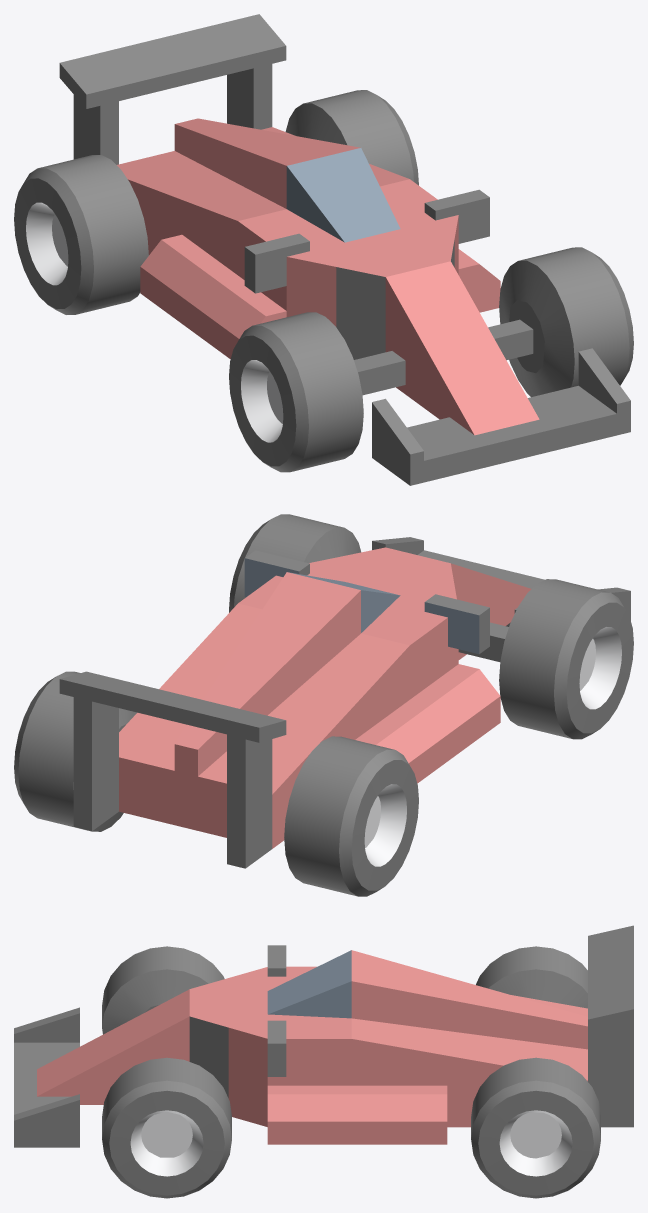
The picture shows the model from 3 angles, top to bottom: view 1: azimuth 30°, elevation 25°; view 2: azimuth 150°, elevation 25°; view 3: azimuth 270°, elevation 25°; orthographic projection. The views are drawn at different scales.
Visible parts, largest first — view 1: GL_Car_Body, GL_Car_Wheel_FR, GL_Car_Wheel_RR, GL_Car_Wheel_FL, GL_Car_Wheel_RL; view 2: GL_Car_Body, GL_Car_Wheel_RR, GL_Car_Wheel_FR, GL_Car_Wheel_RL, GL_Car_Wheel_FL; view 3: GL_Car_Body, GL_Car_Wheel_RL, GL_Car_Wheel_FL, GL_Car_Wheel_FR, GL_Car_Wheel_RR.
Boxes of the visible parts, left/top/right/bottom form: GL_Car_Body: left=59, top=14, right=630, bottom=485; GL_Car_Wheel_FR: left=229, top=312, right=363, bottom=472; GL_Car_Wheel_RR: left=14, top=155, right=148, bottom=314; GL_Car_Wheel_FL: left=499, top=247, right=633, bottom=397; GL_Car_Wheel_RL: left=285, top=90, right=418, bottom=185; GL_Car_Body: left=59, top=537, right=630, bottom=868; GL_Car_Wheel_RR: left=284, top=736, right=418, bottom=896; GL_Car_Wheel_FR: left=499, top=579, right=633, bottom=739; GL_Car_Wheel_RL: left=14, top=671, right=136, bottom=831; GL_Car_Wheel_FL: left=229, top=514, right=360, bottom=612; GL_Car_Body: left=14, top=925, right=633, bottom=1147; GL_Car_Wheel_RL: left=471, top=1057, right=600, bottom=1198; GL_Car_Wheel_FL: left=102, top=1057, right=231, bottom=1198; GL_Car_Wheel_FR: left=102, top=946, right=224, bottom=1034; GL_Car_Wheel_RR: left=476, top=946, right=587, bottom=1008.
Bounding box in the file's own units: 0.7288 × 0.397 × 1.35.
